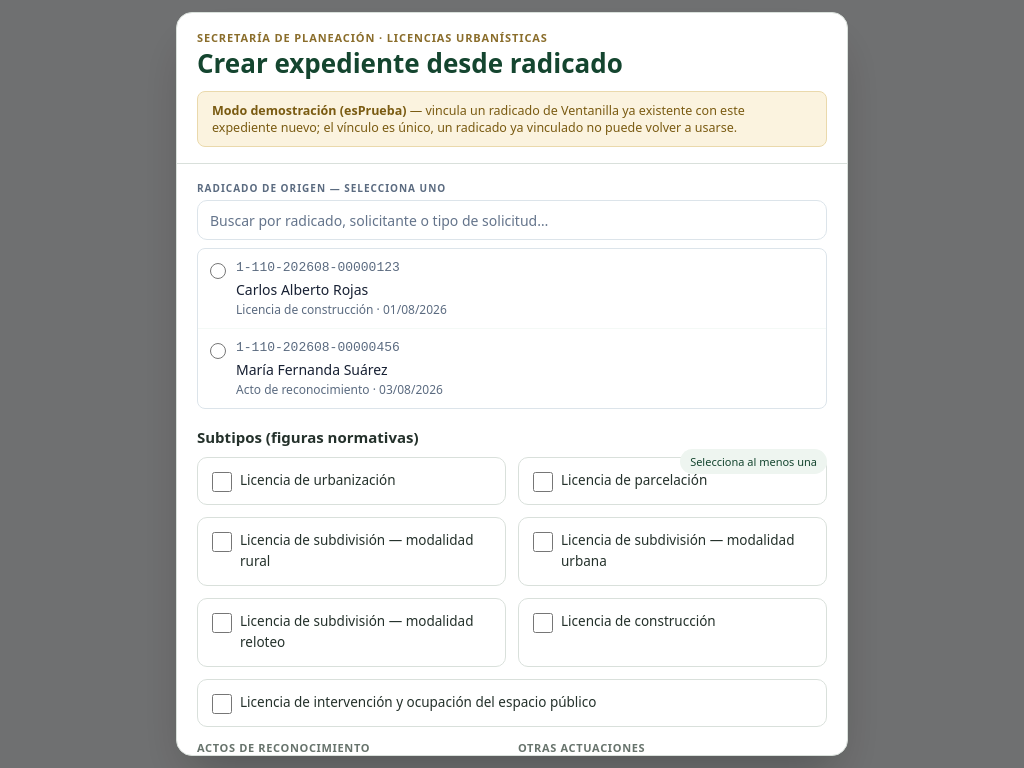
Scenario: Crear desde radicado — envío y errores del servidor › constancia NO enviada: muestra la advertencia explícita (revisión QA 8-ago) en vez de omitirlo
This screenshot has width=1024, height=768.
Expected: the text "1-110-202608-00000123" is shown, [236,260,400,276]
Click the radio button labelled "1-110-202608-00000123": (218, 272) [210,264,226,280]
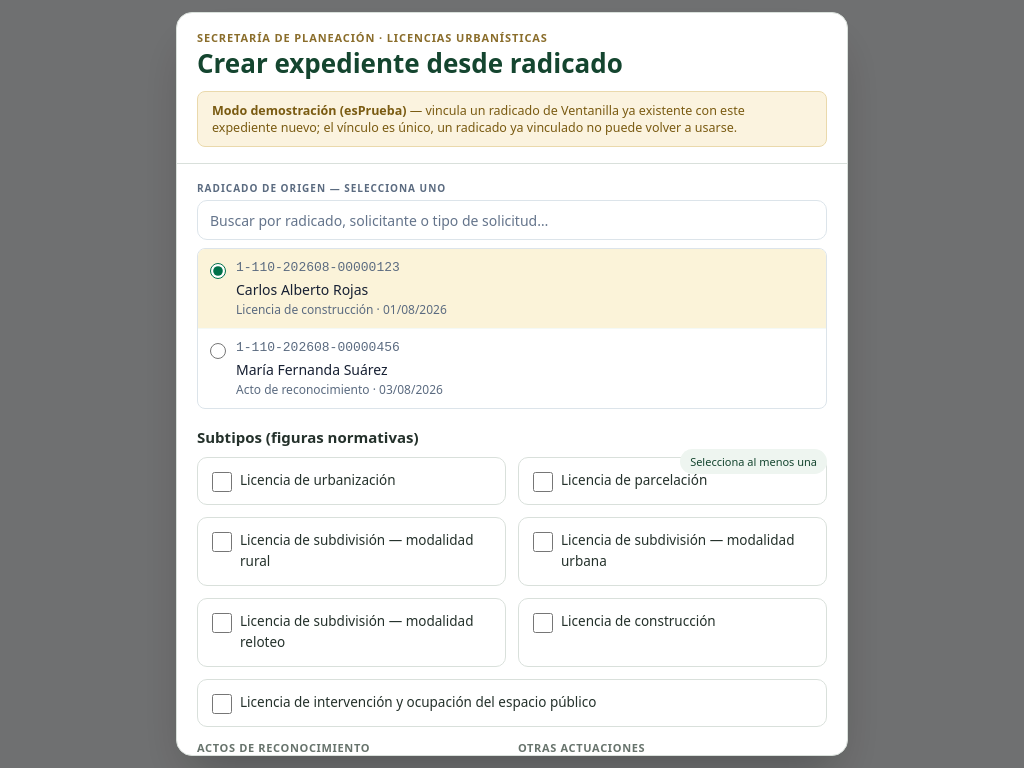
Click the checkbox labelled "Licencia de construcción": (543, 623) [533,613,553,633]
(page scrolled)
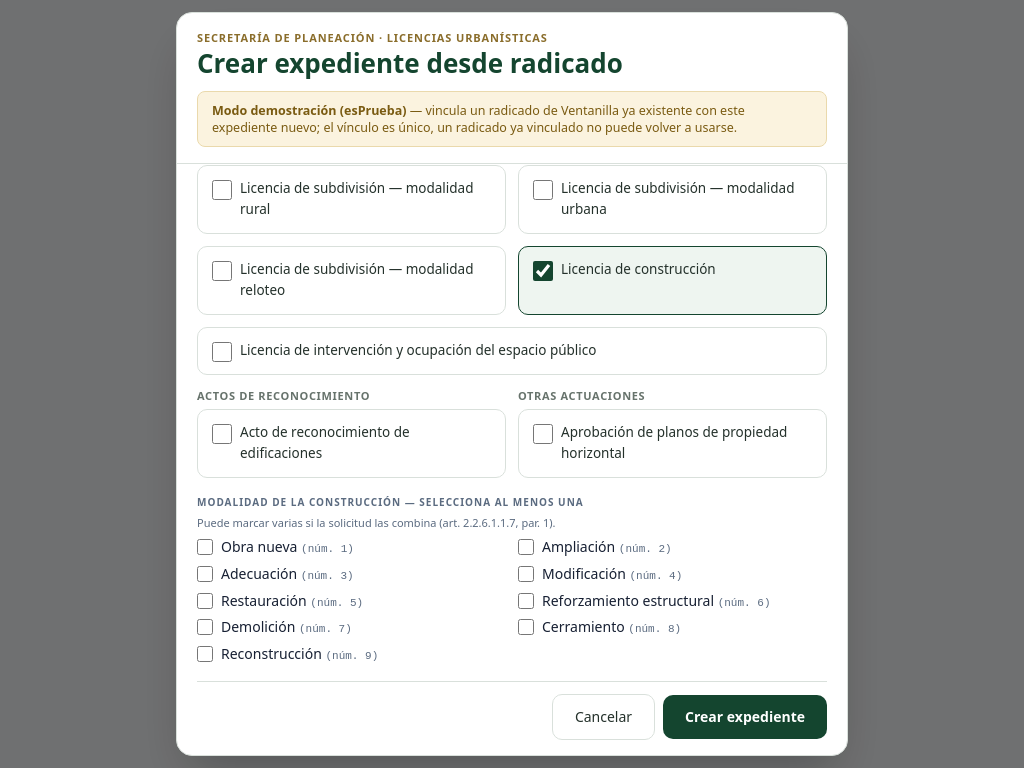
Click the checkbox labelled "Obra nueva (núm. 1)": (205, 547) [197,539,213,555]
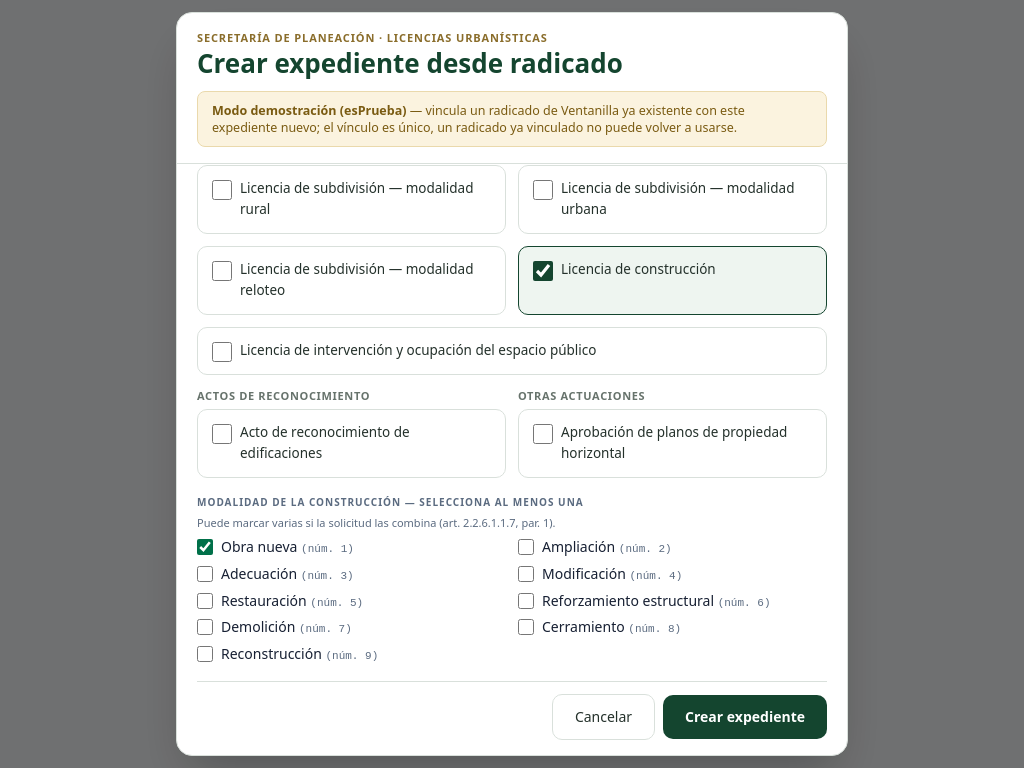
Click the button "Crear expediente": (745, 717) [663,695,827,739]
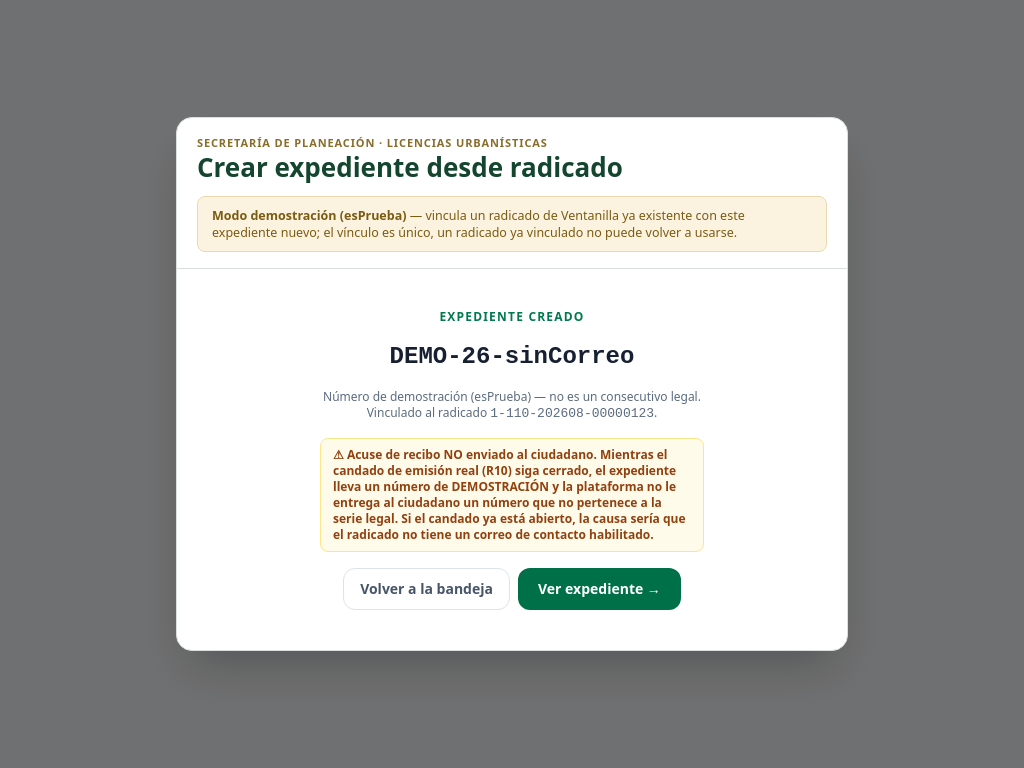
Expected: the text "DEMO-26-sinCorreo" is shown, [390,341,634,373]
Expected: the message shows "Acuse de recibo NO enviado al ciudadano", [333,446,686,543]
